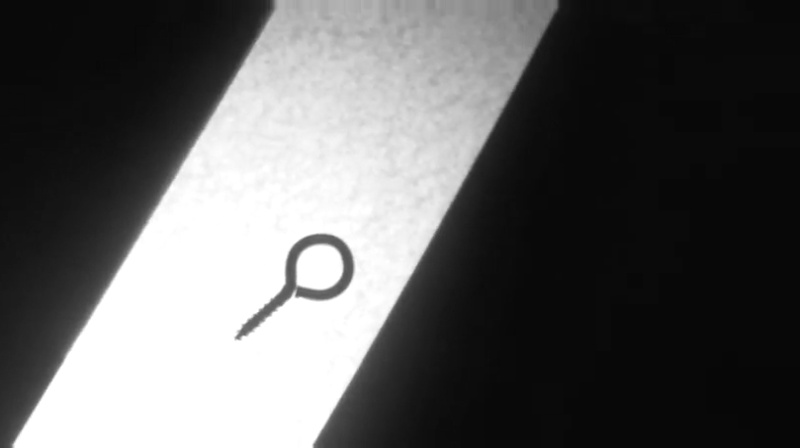O001: (230, 230, 357, 348)
